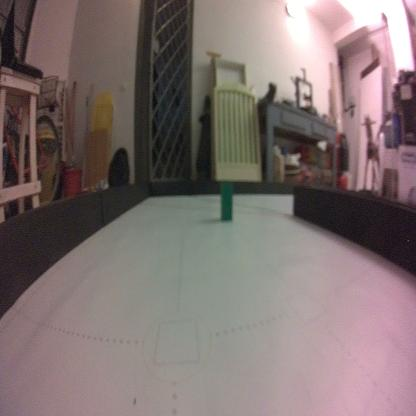green: (218, 179, 235, 222)
